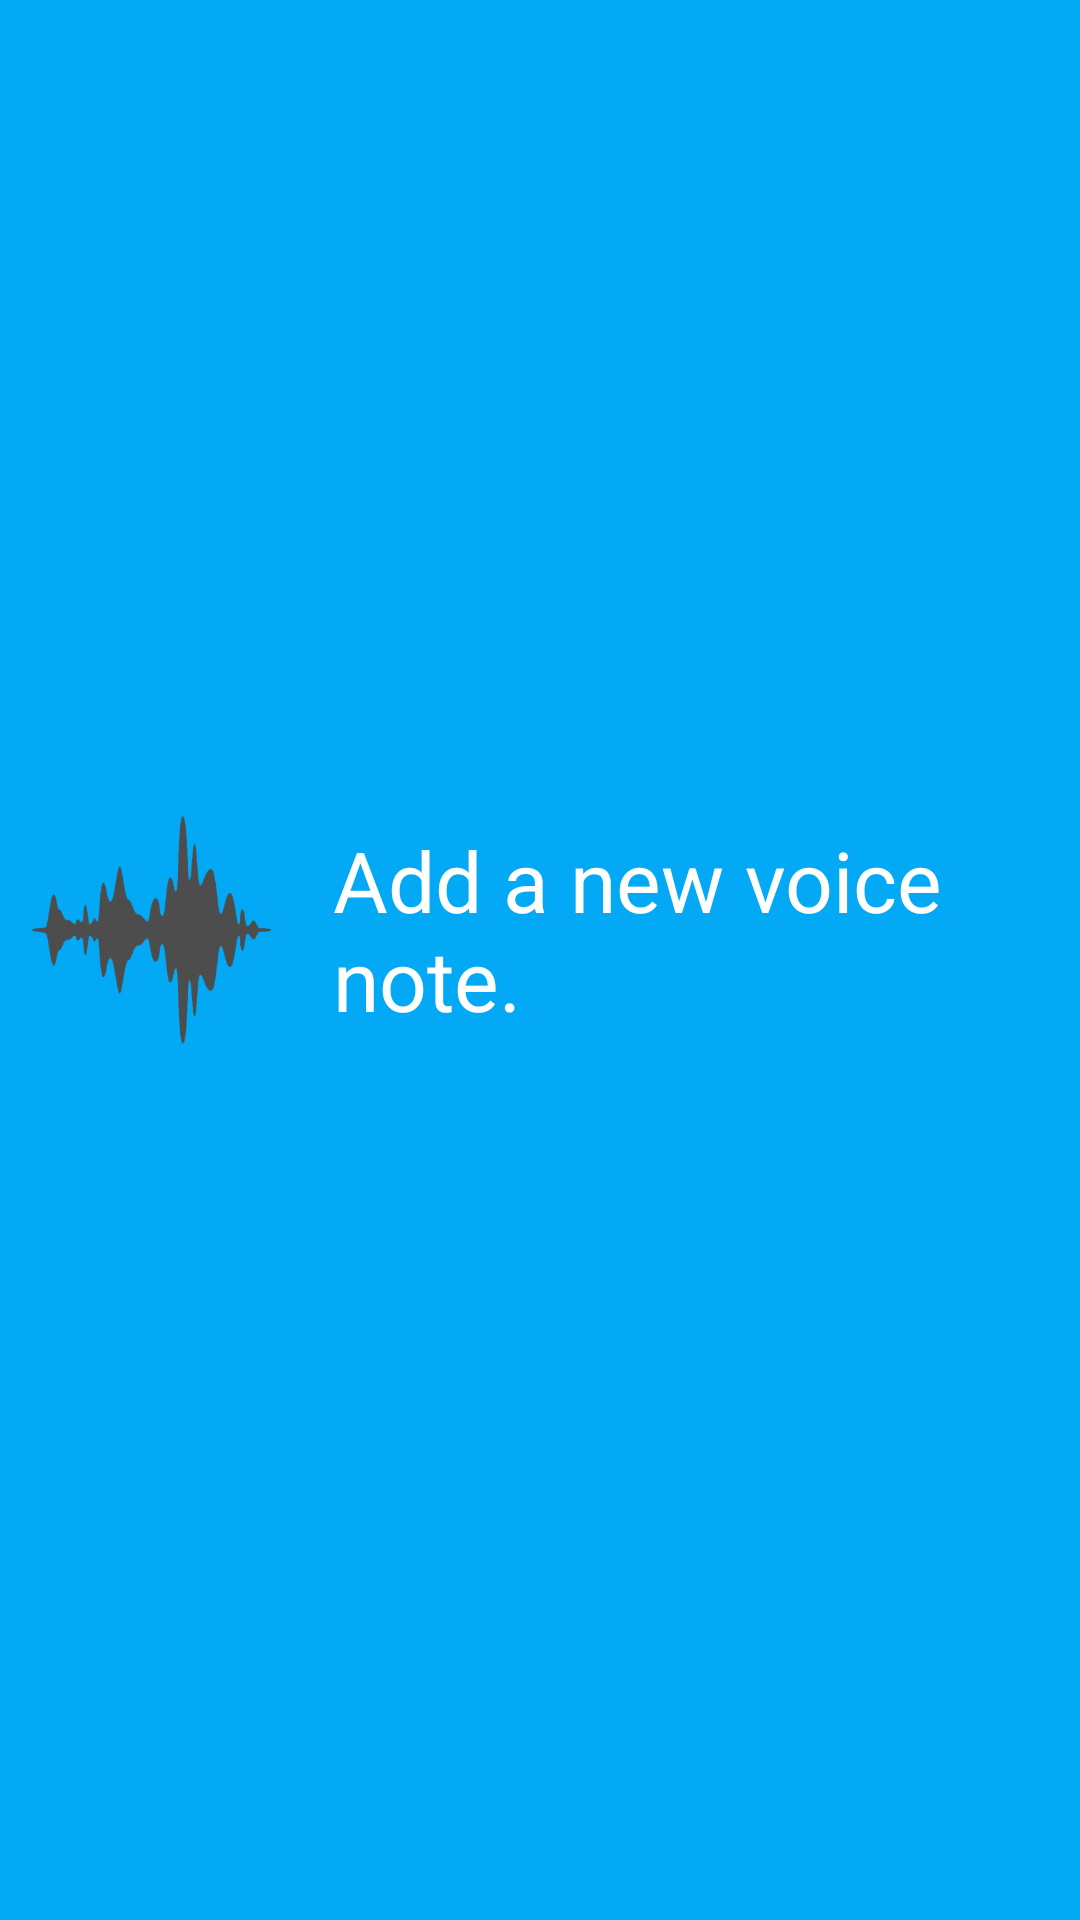

Icons on this 1080 x 1920 Android screen, each with its box as detection(x1, y1, x2, y2):
audio wave: detection(32, 816, 271, 1044)
